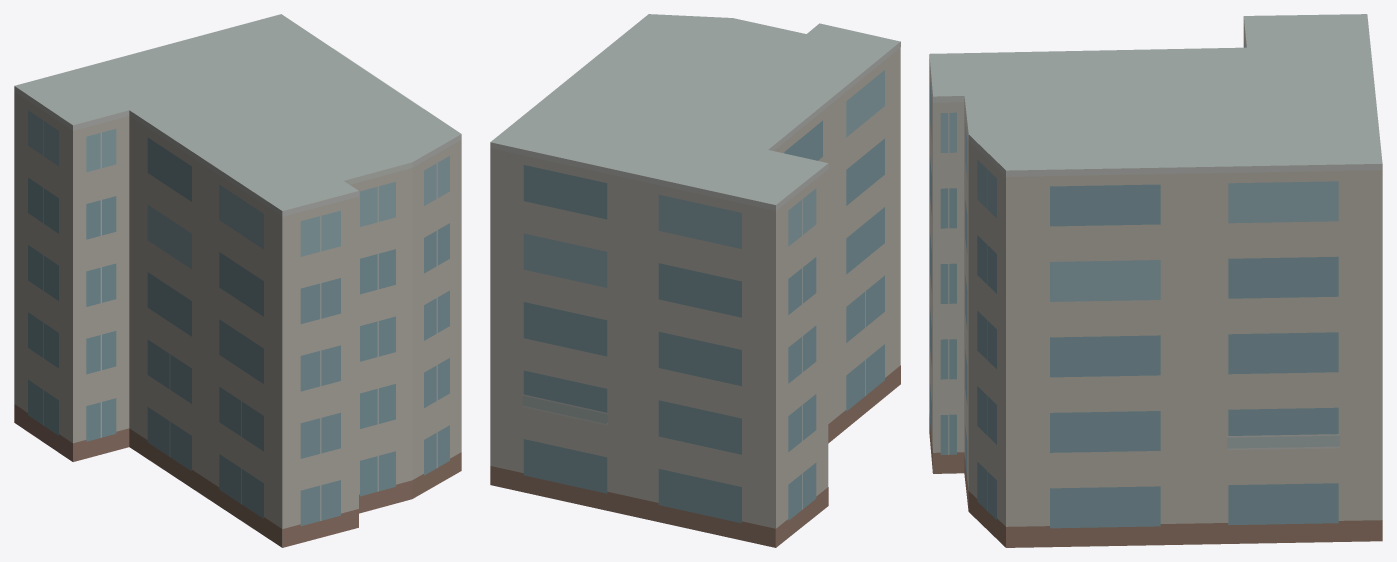
The model's file is survey-upis-32933477.glb.
3 views of the same model, side by side, from view 1: azimuth 30°, elevation 25°; view 2: azimuth 150°, elevation 25°; view 3: azimuth 270°, elevation 25° (orthographic). The views are drawn at different scales.
Parts seen in each view (by area): view 1: survey-upis-32933477.tmp; view 2: survey-upis-32933477.tmp; view 3: survey-upis-32933477.tmp.
Boxes of the visible parts, box(x1,y1,x2,y2) form: survey-upis-32933477.tmp: box(14, 14, 461, 547); survey-upis-32933477.tmp: box(490, 14, 900, 547); survey-upis-32933477.tmp: box(929, 14, 1382, 547).
Bounding box in the file's own units: 13 × 14.6 × 15.9.
